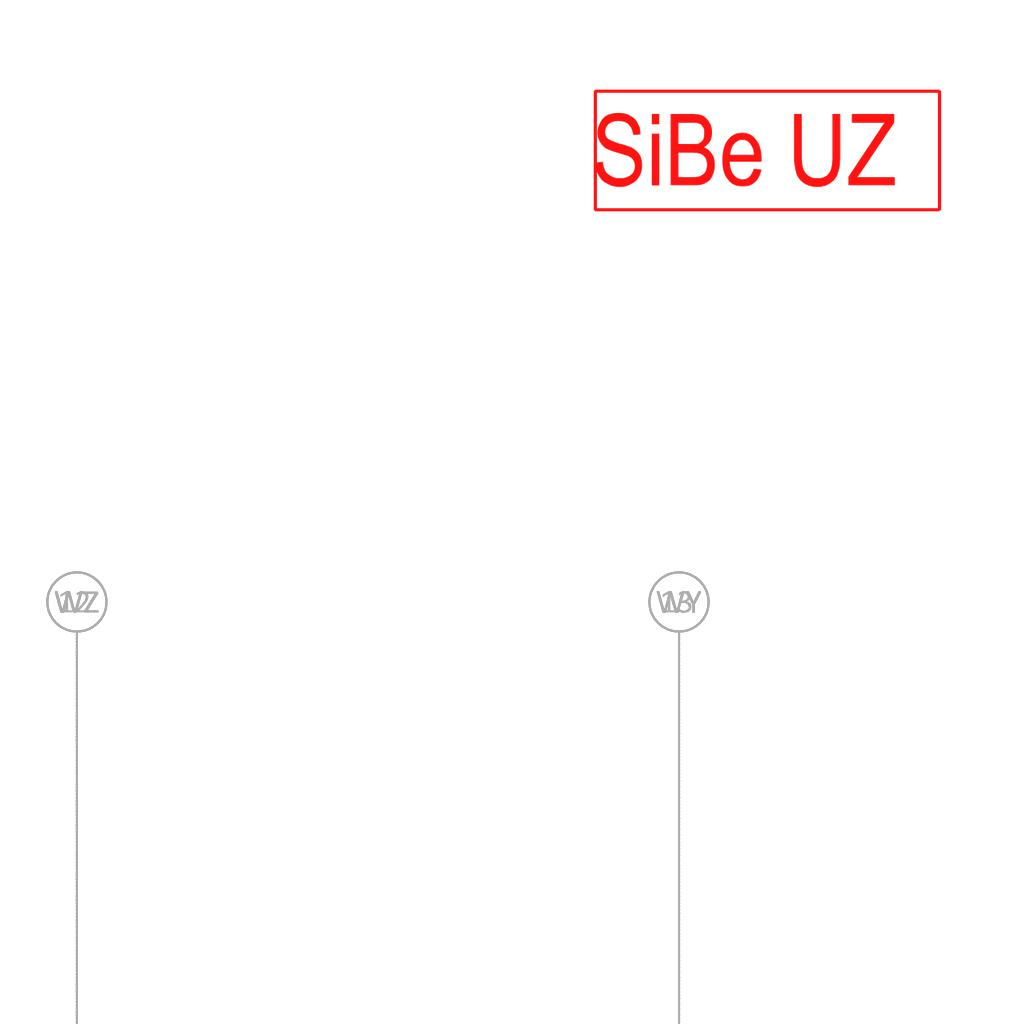Zentrale_Sicherheitsbeleuchtung: (590, 86, 947, 216)
